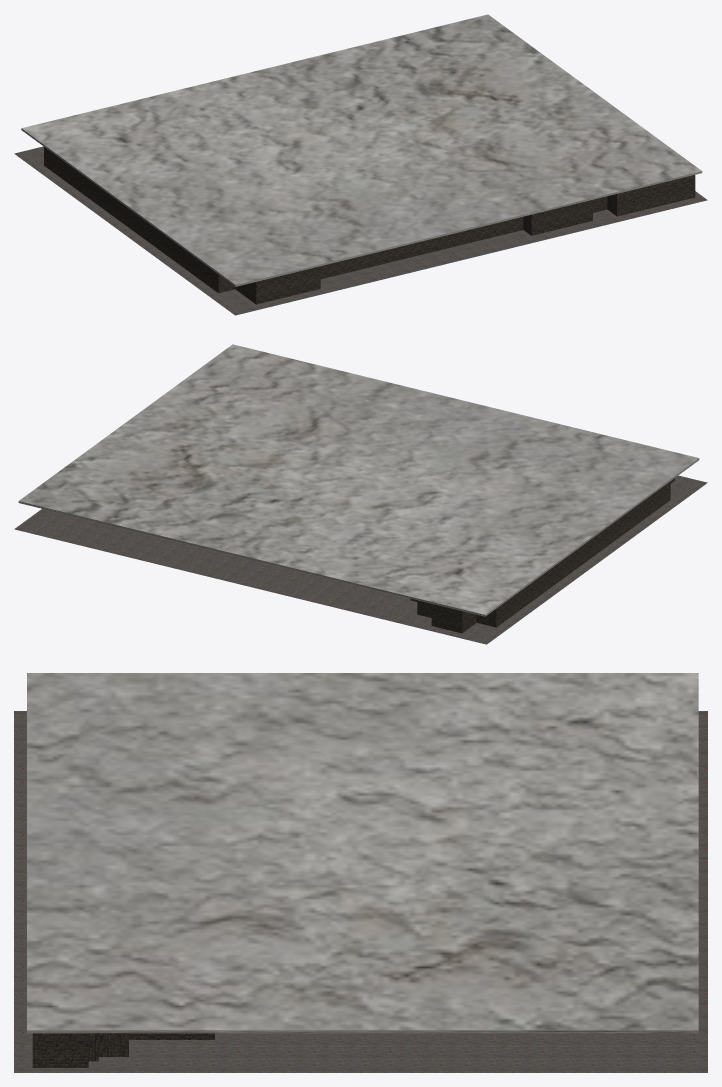
The model's file is map2.fbx.
3 views of the same model, one above another, from view 1: azimuth 30°, elevation 25°; view 2: azimuth 150°, elevation 25°; view 3: azimuth 270°, elevation 25° (orthographic). The views are drawn at different scales.
Visible parts, largest first — view 1: Ceiling, Walls, Floor; view 2: Ceiling, Floor, Walls; view 3: Ceiling, Floor, Walls.
Boxes of the visible parts, x1,y1,x2,y2 form: Ceiling: (21,14,702,286); Walls: (44,147,695,304); Floor: (14,146,707,315); Ceiling: (18,344,699,616); Floor: (14,475,707,644); Walls: (410,478,674,633); Ceiling: (27,673,698,1033); Floor: (14,711,707,1072); Walls: (32,1033,214,1067).
Bounding box in the file's own units: 10245 × 549 × 8305.
Materials: 3 (3 with a texture image).
